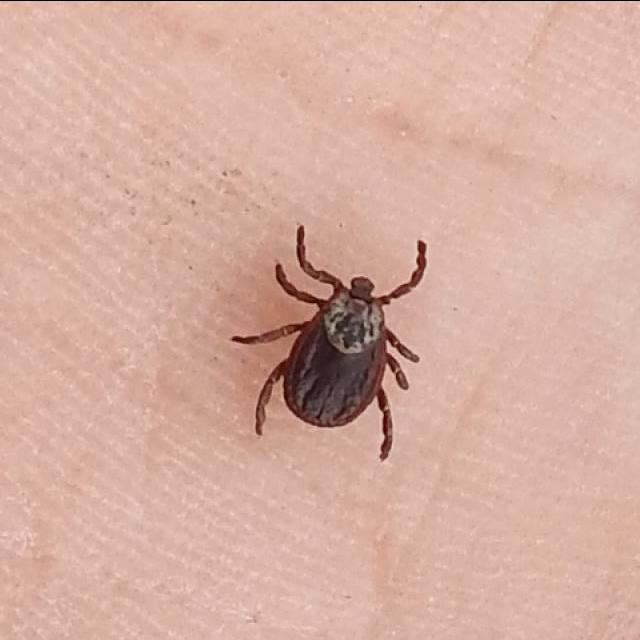Dermacentor Reticulatus-F: (233, 225, 427, 461)
